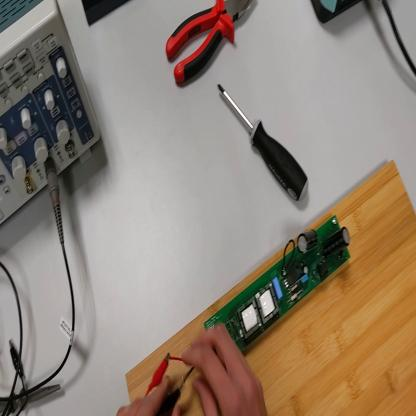hand: (182, 325, 267, 416), (119, 371, 177, 415)
high voltage board: (172, 214, 354, 383)
oscilloscope: (1, 4, 104, 230)
oscilloscope probe tip: (1, 384, 63, 414)
pliers: (166, 1, 254, 85)
screwdriver-: (217, 89, 310, 207)
welder station: (311, 2, 363, 32)
working area: (127, 162, 416, 415)
